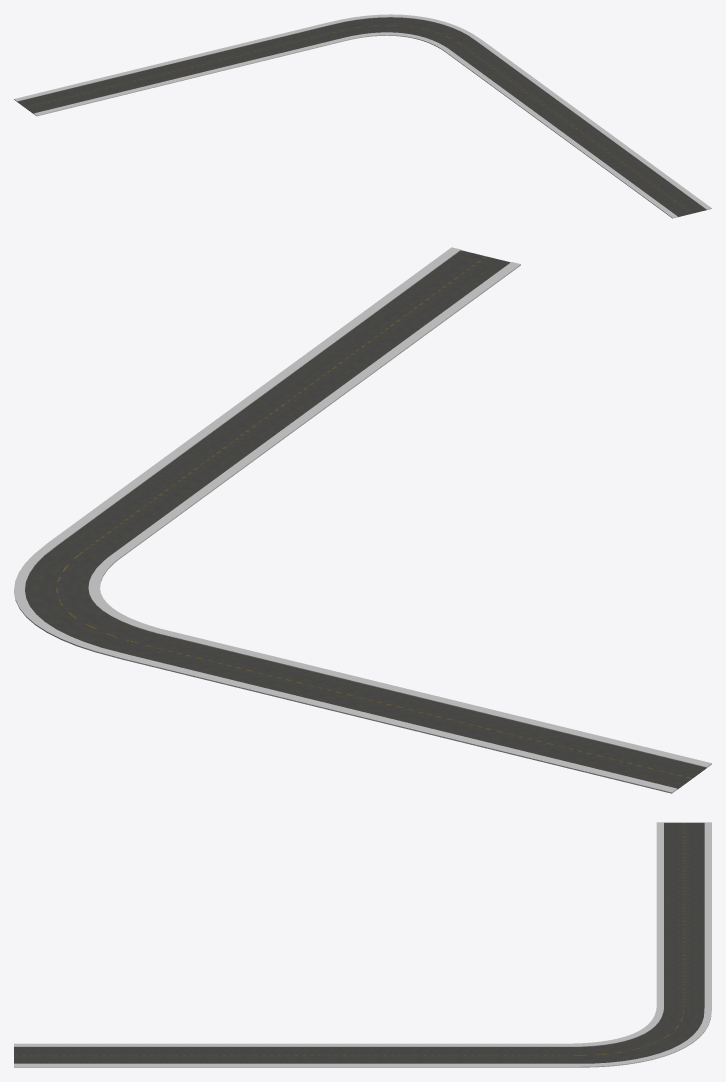
File: road_big.fbx
3 renders of one model, top to bottom at view 1: azimuth 30°, elevation 25°; view 2: azimuth 150°, elevation 25°; view 3: azimuth 270°, elevation 25°, orthographic. The views are drawn at different scales.
Parts seen in each view (by area): view 1: Cube.001; view 2: Cube.001; view 3: Cube.001.
Boxes of the visible parts, x1,y1,x2,y2 form: Cube.001: [14, 14, 711, 218]; Cube.001: [14, 247, 711, 793]; Cube.001: [14, 822, 711, 1067].
Size of the model in its own units: 8110 by 13.08 by 9772.
